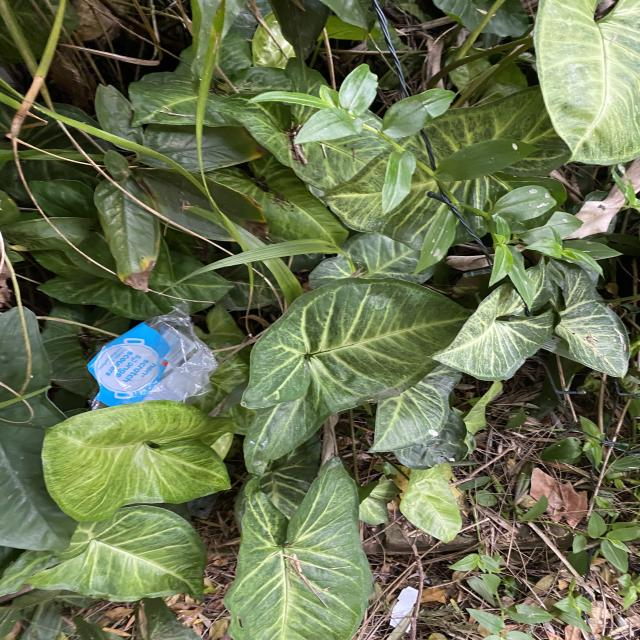wrappers: (86, 302, 219, 411)
